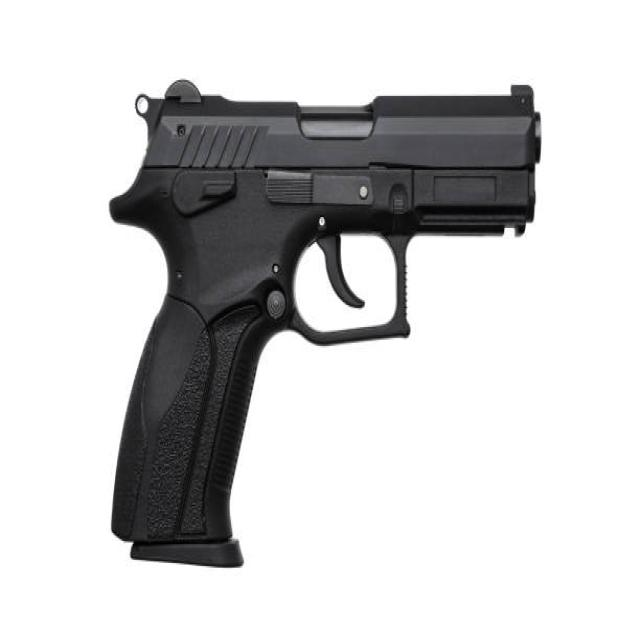pistol: (104, 61, 550, 567)
